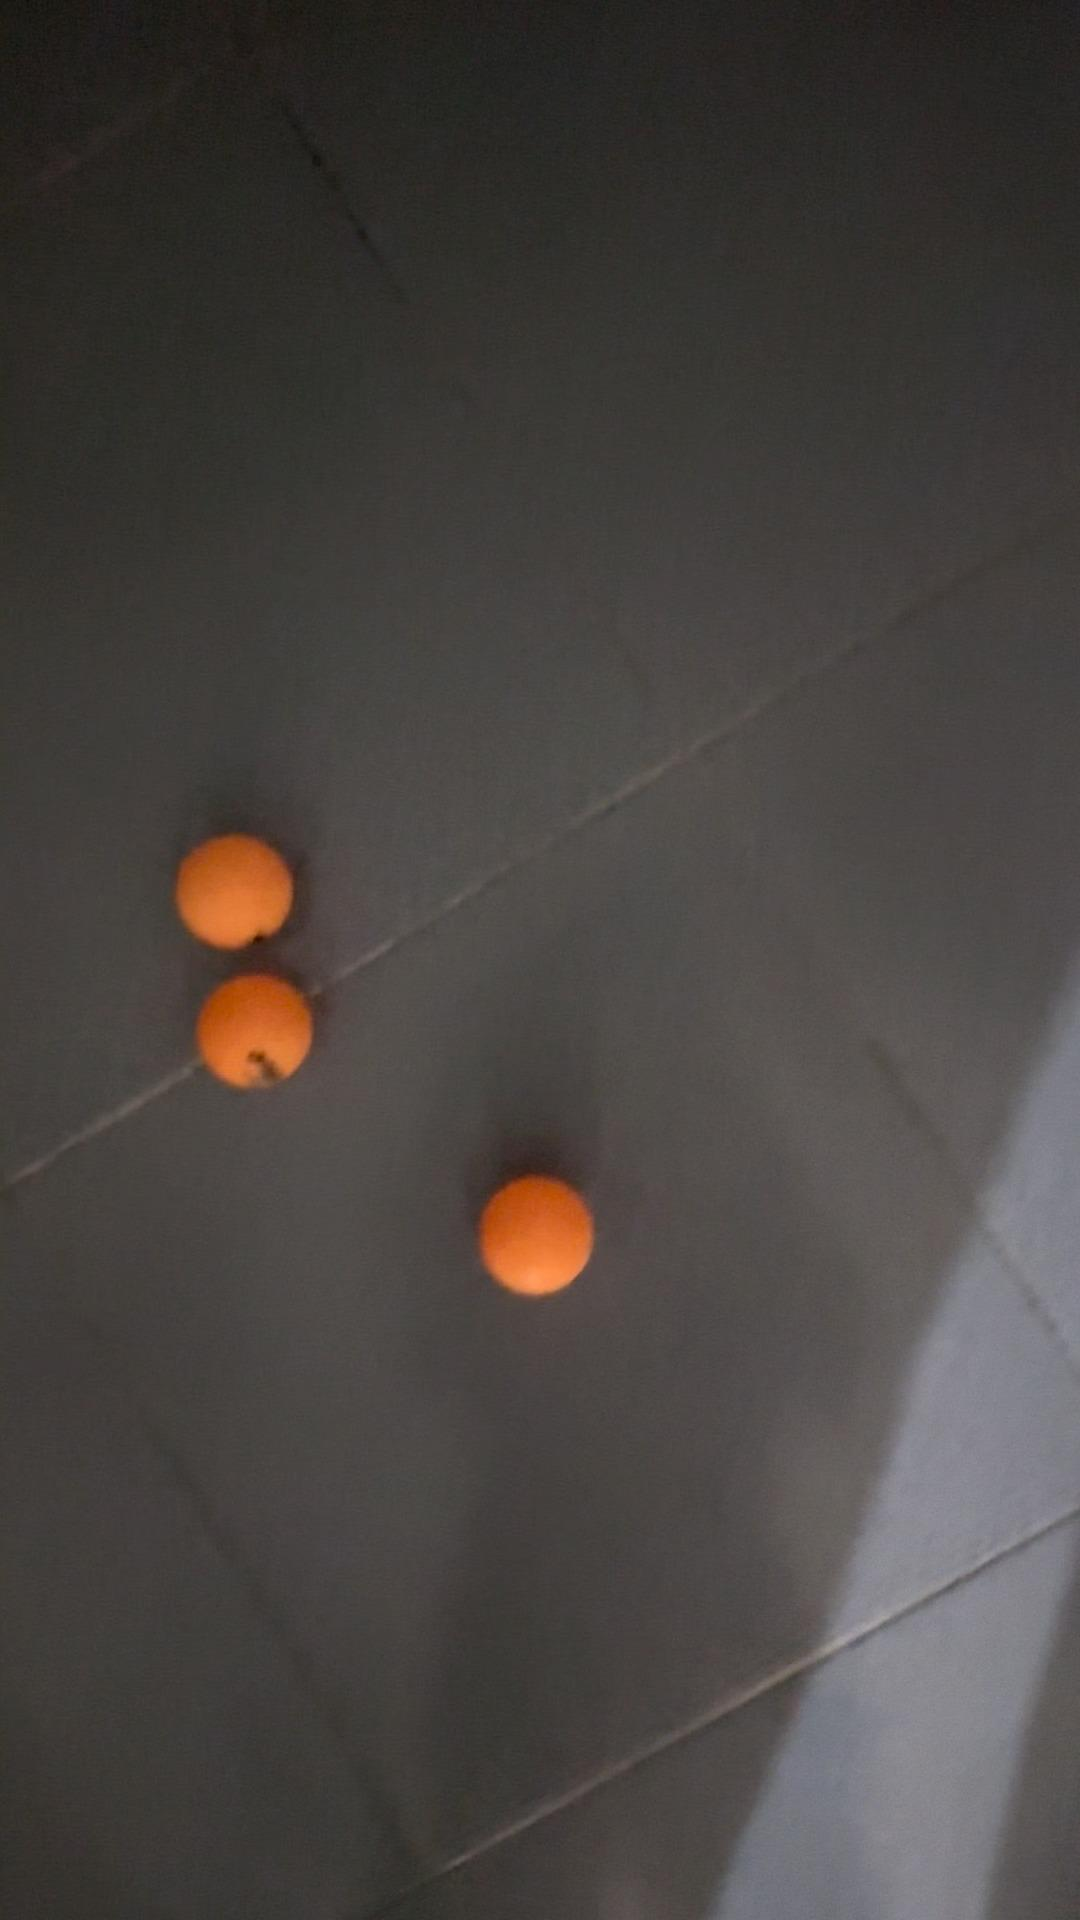oball: (471, 1171, 621, 1305), (161, 824, 315, 953), (198, 968, 331, 1093)
